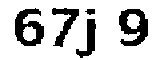6: (12, 6, 44, 49)
7: (46, 2, 81, 49)
9: (114, 7, 150, 52)
j: (79, 7, 101, 60)
